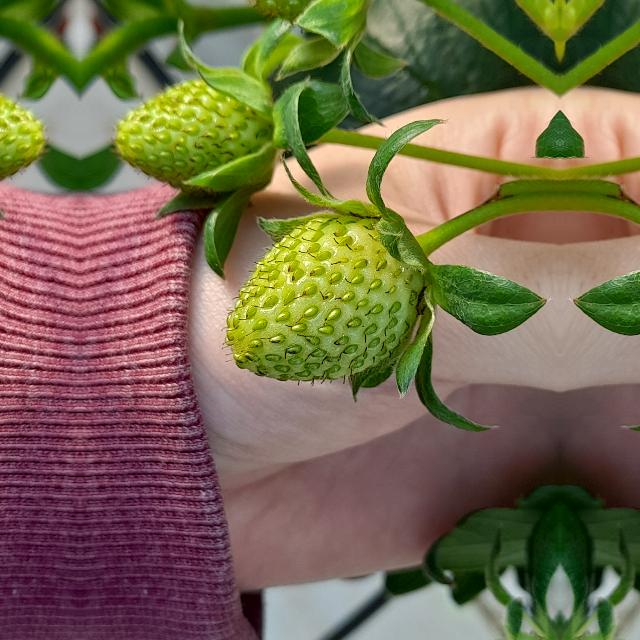Health_25: (221, 213, 424, 385), (106, 73, 280, 194), (0, 72, 54, 193)
